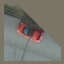car: (16, 21, 42, 47)
